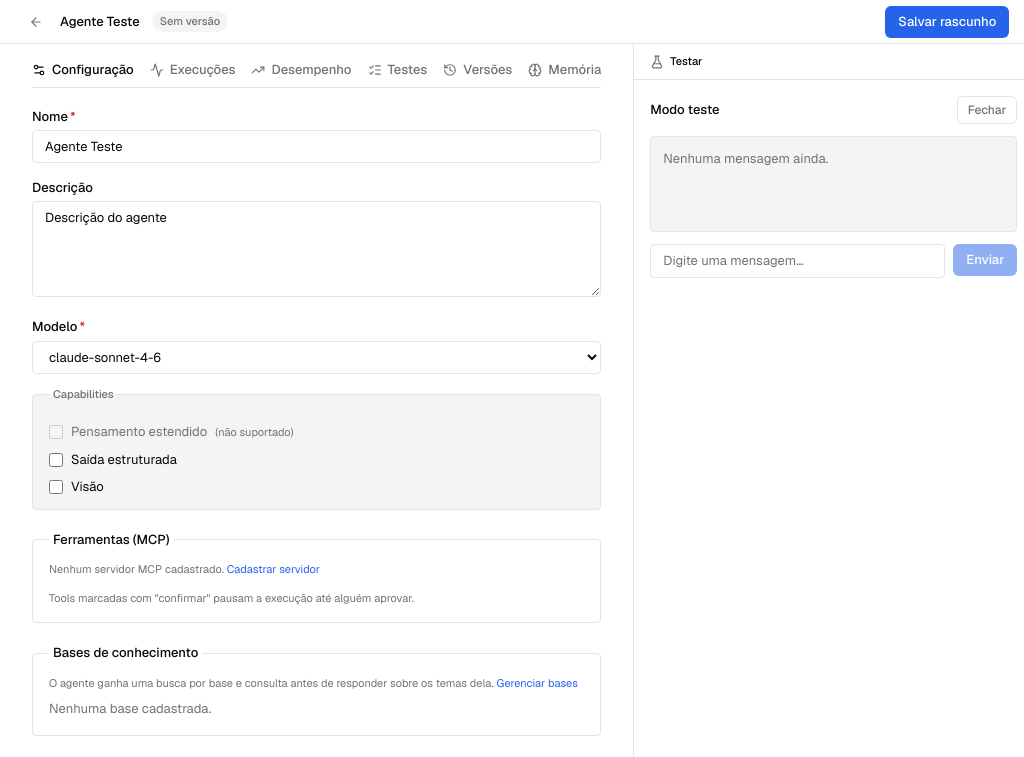
it: AgentEditPage › exibe erro de validação quando nome está vazio
Step 1. Clear the field showing "Agente Teste" → (317, 147), box top-left (32, 130), bottom-right (601, 163)
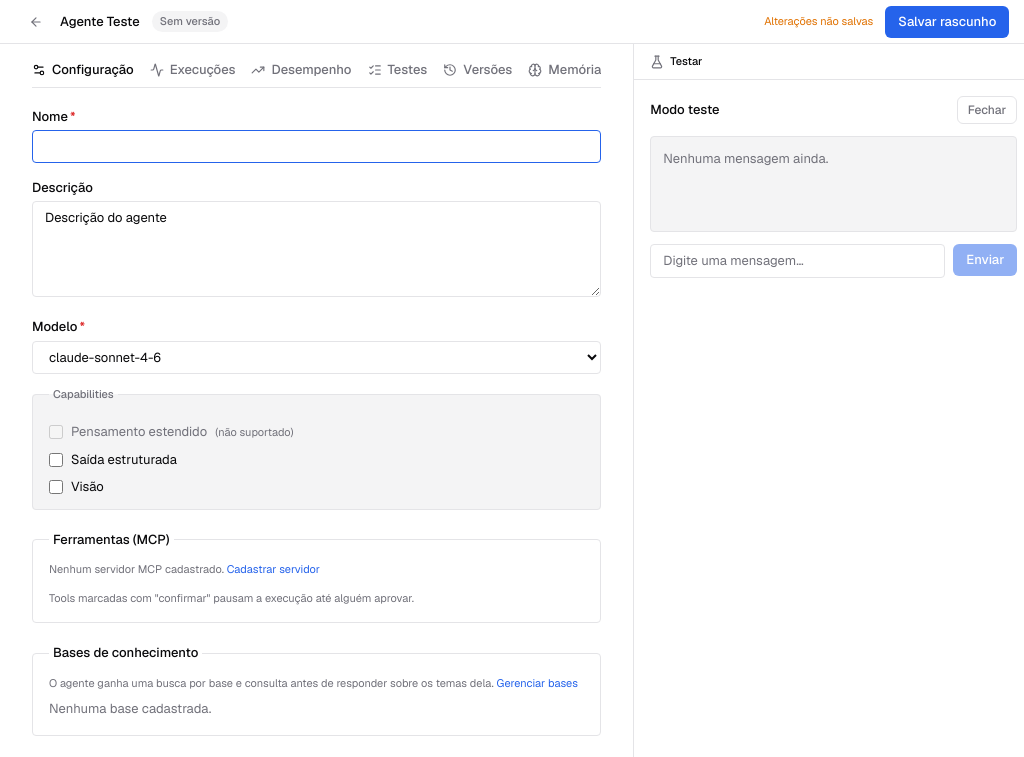
Step 2. Click the button "Salvar rascunho" → (947, 22), box top-left (885, 6), bottom-right (1009, 38)
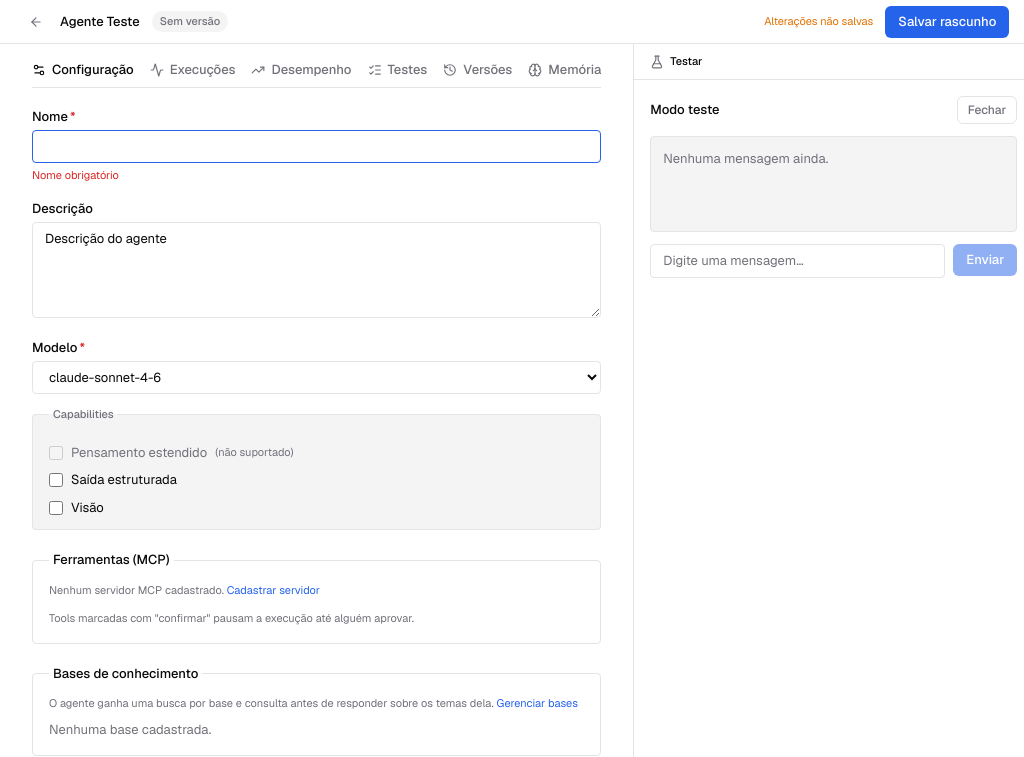
Expected: the text "Nome obrigatório" is shown, top-left (32, 168), bottom-right (119, 182)
